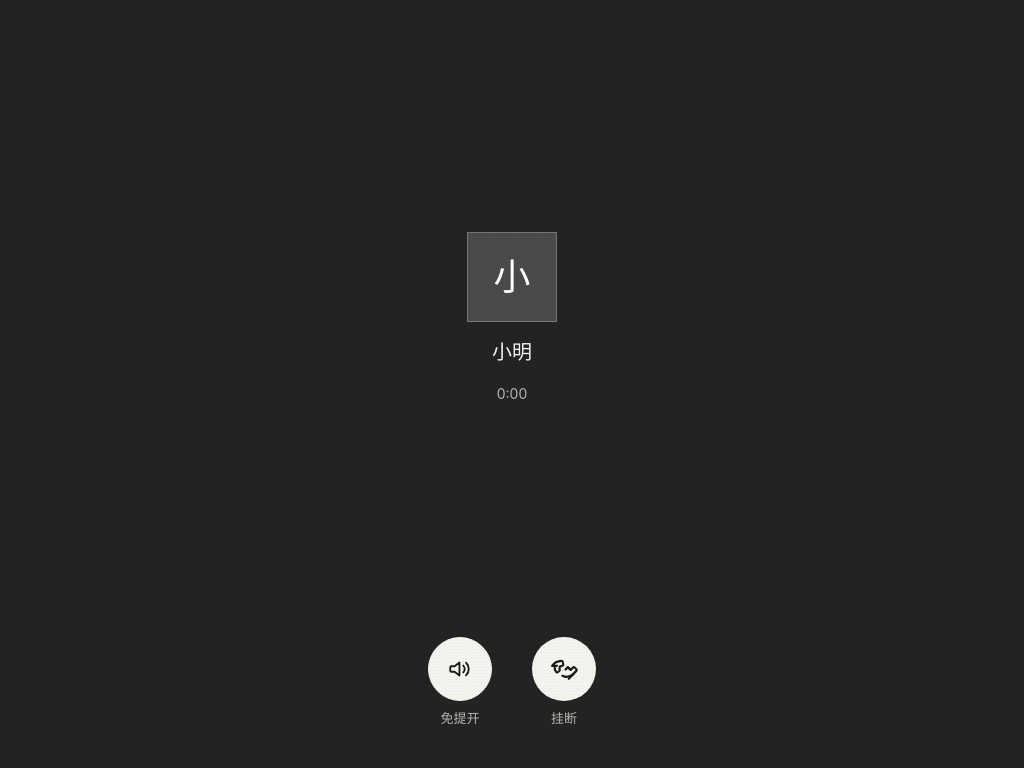
Scenario: CallOverlay › 免提切换 › 默认免提,优先切到扬声器设备;关闭后回到默认输出
This screenshot has width=1024, height=768.
Click the button with test id "call-speaker" at (460, 668), box [428,636,492,700]
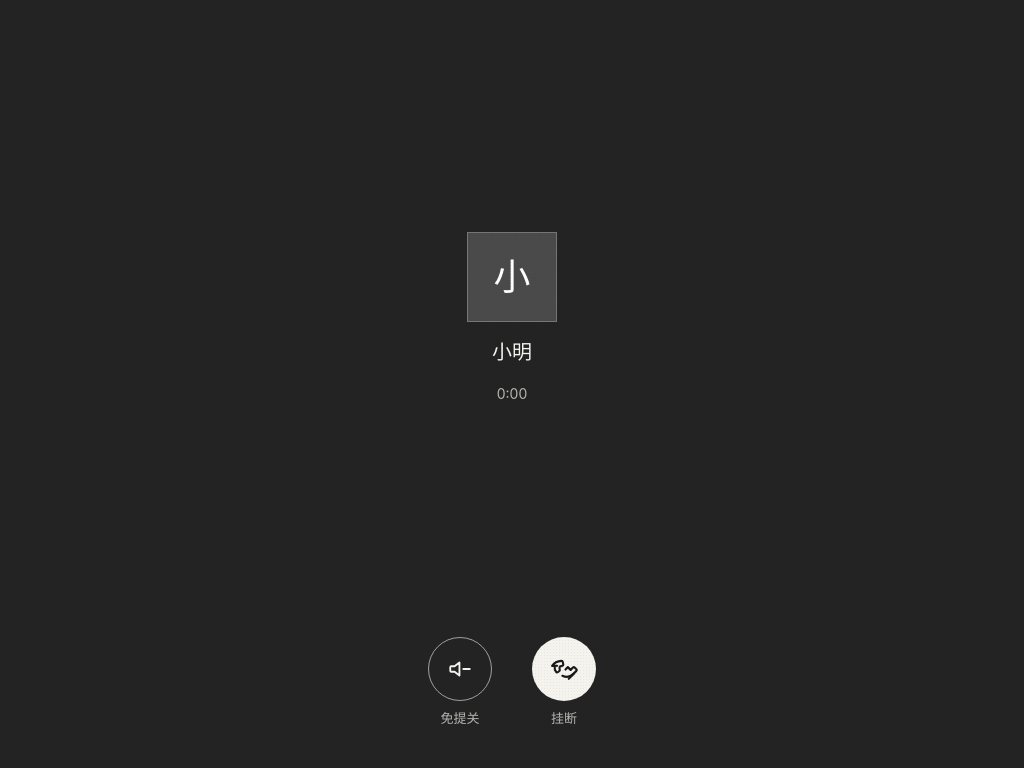
Expected: the button with test id "call-speaker" is not pressed, [428,636,492,700]
